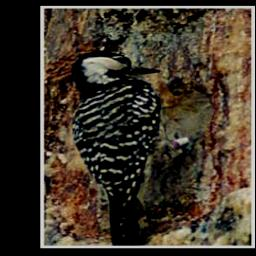Woodpecker: (63, 44, 207, 247)
